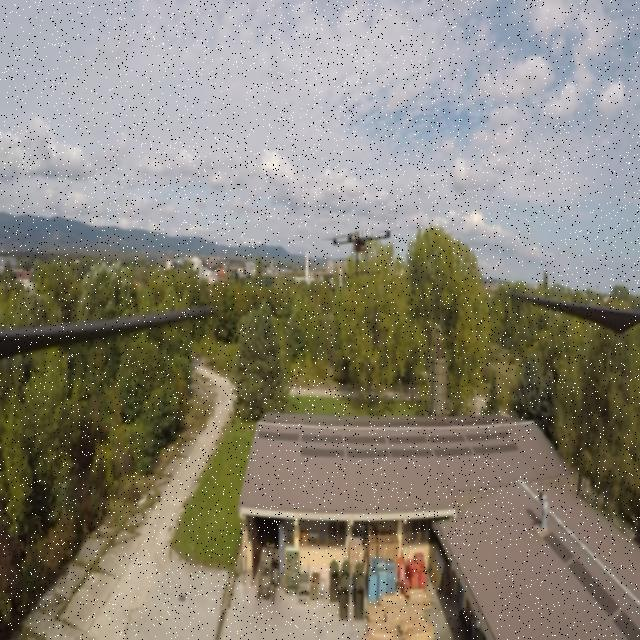UAV: (320, 222, 400, 280)
